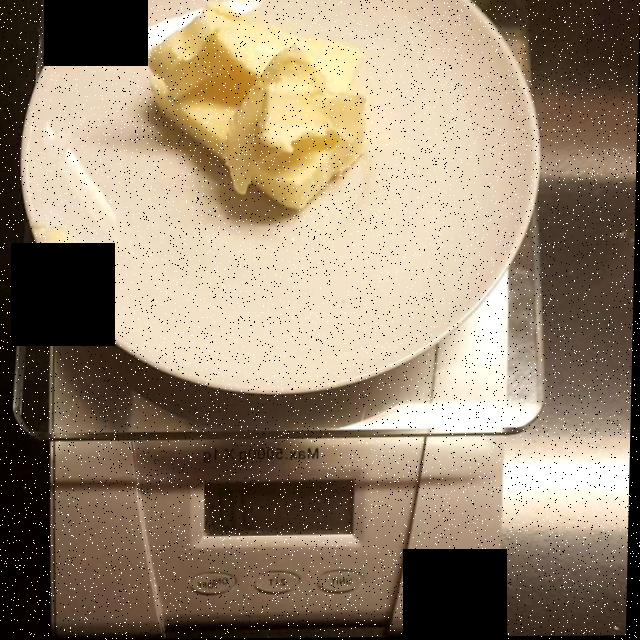butter: (151, 9, 367, 206)
